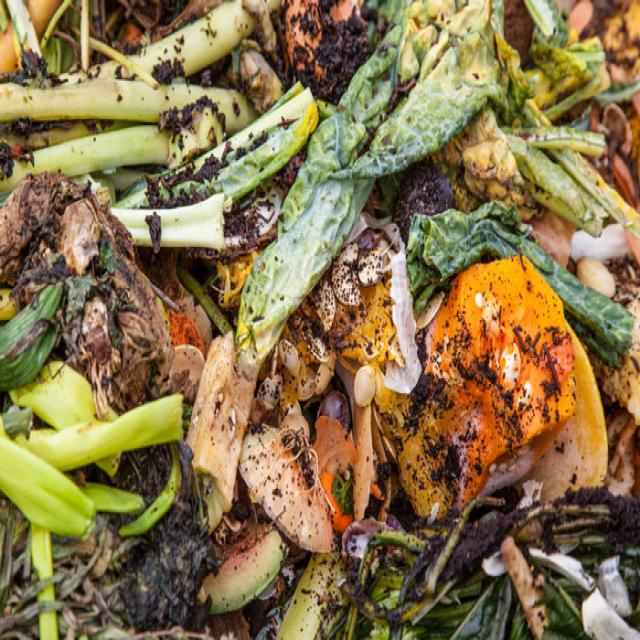food_waste: (9, 15, 629, 614), (279, 71, 608, 516), (30, 67, 250, 562)
